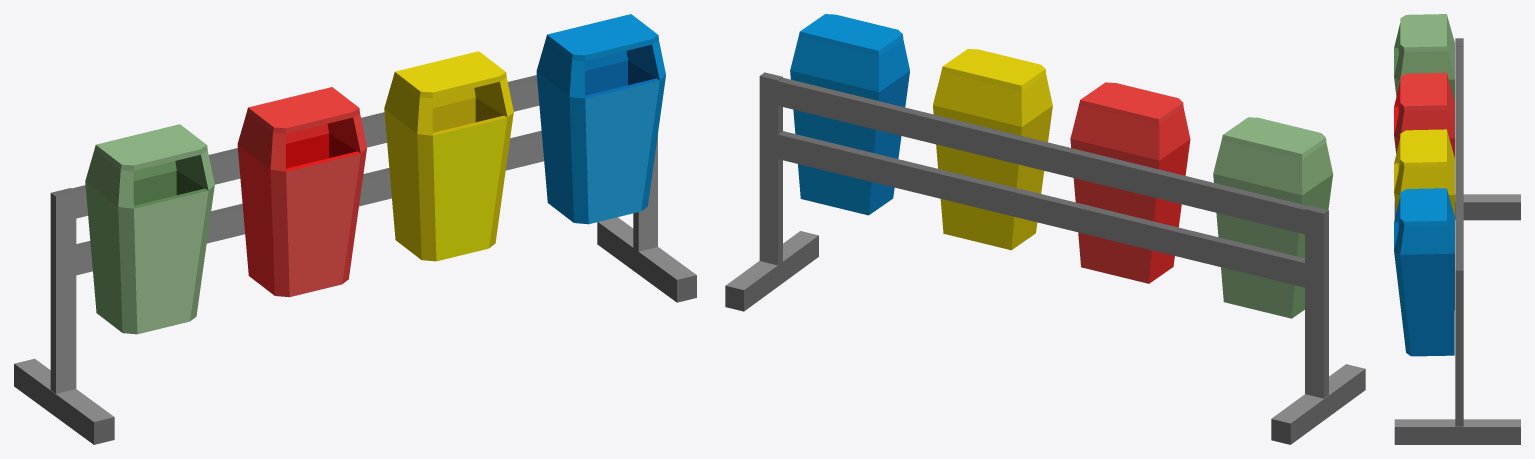
Rendered from Trash-01.fbx.
3 views of the same model, side by side, from view 1: azimuth 30°, elevation 25°; view 2: azimuth 150°, elevation 25°; view 3: azimuth 270°, elevation 25° (orthographic). The views are drawn at different scales.
Parts seen in each view (by area): view 1: Trash-01; view 2: Trash-01; view 3: Trash-01.
Boxes of the visible parts, x1=… form: Trash-01: x1=14, y1=14, x2=696, y2=444; Trash-01: x1=725, y1=14, x2=1365, y2=444; Trash-01: x1=1394, y1=14, x2=1520, y2=444.
Size of the model in its own units: 3.4 by 1.44 by 0.7832.
